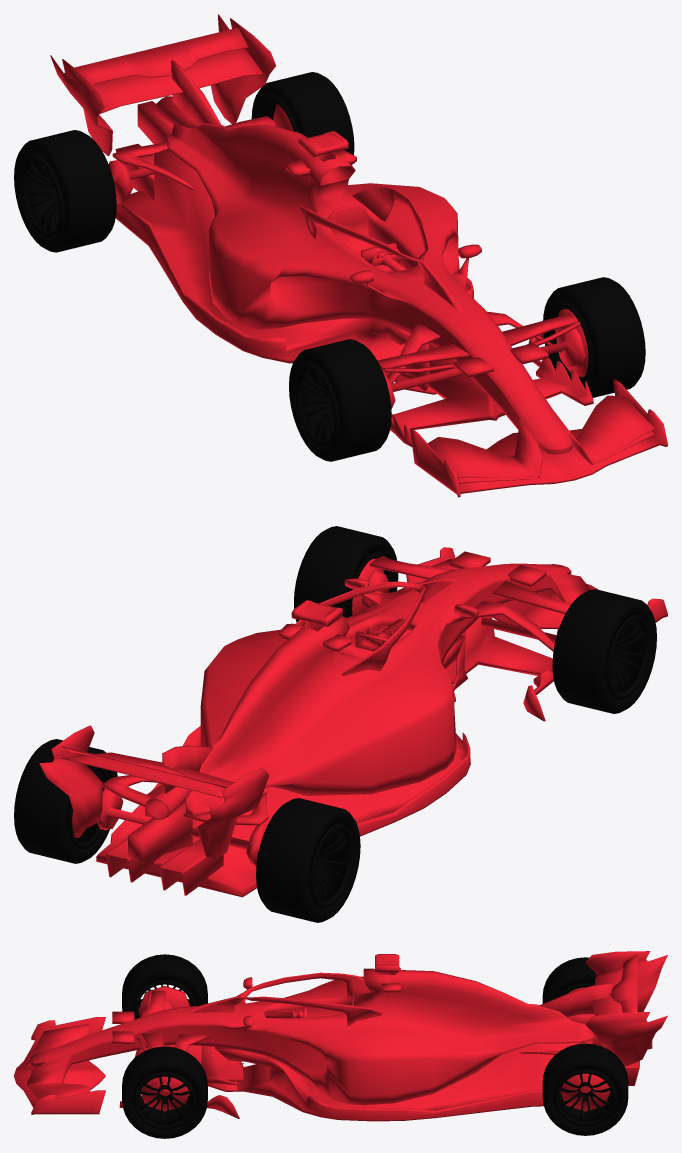
The model's file is finalCar.fbx.
3 views of the same model, one above another, from view 1: azimuth 30°, elevation 25°; view 2: azimuth 150°, elevation 25°; view 3: azimuth 270°, elevation 25° (orthographic). The views are drawn at different scales.
Parts seen in each view (by area): view 1: Formula, FrontRightWheel, BackRightWheel, FontLeftWheel, BackLeftWheel; view 2: Formula, BackRightWheel, FrontRightWheel, BackLeftWheel, FontLeftWheel; view 3: Formula, FontLeftWheel, BackLeftWheel, FrontRightWheel, BackRightWheel.
Part boxes in pixels (x1,y1,x2,y2): Formula: [50, 14, 667, 497]; FrontRightWheel: [289, 339, 391, 461]; BackRightWheel: [14, 130, 116, 252]; FontLeftWheel: [543, 277, 645, 397]; BackLeftWheel: [251, 72, 354, 164]; Formula: [39, 547, 667, 897]; BackRightWheel: [256, 798, 360, 922]; FrontRightWheel: [552, 589, 656, 713]; BackLeftWheel: [14, 739, 117, 863]; FontLeftWheel: [294, 526, 398, 622]; Formula: [14, 951, 667, 1121]; FontLeftWheel: [122, 1046, 207, 1138]; BackLeftWheel: [542, 1043, 628, 1135]; FrontRightWheel: [122, 954, 207, 1019]; BackRightWheel: [542, 957, 596, 1003].
Bounding box in the file's own units: 344 × 185 × 862.
